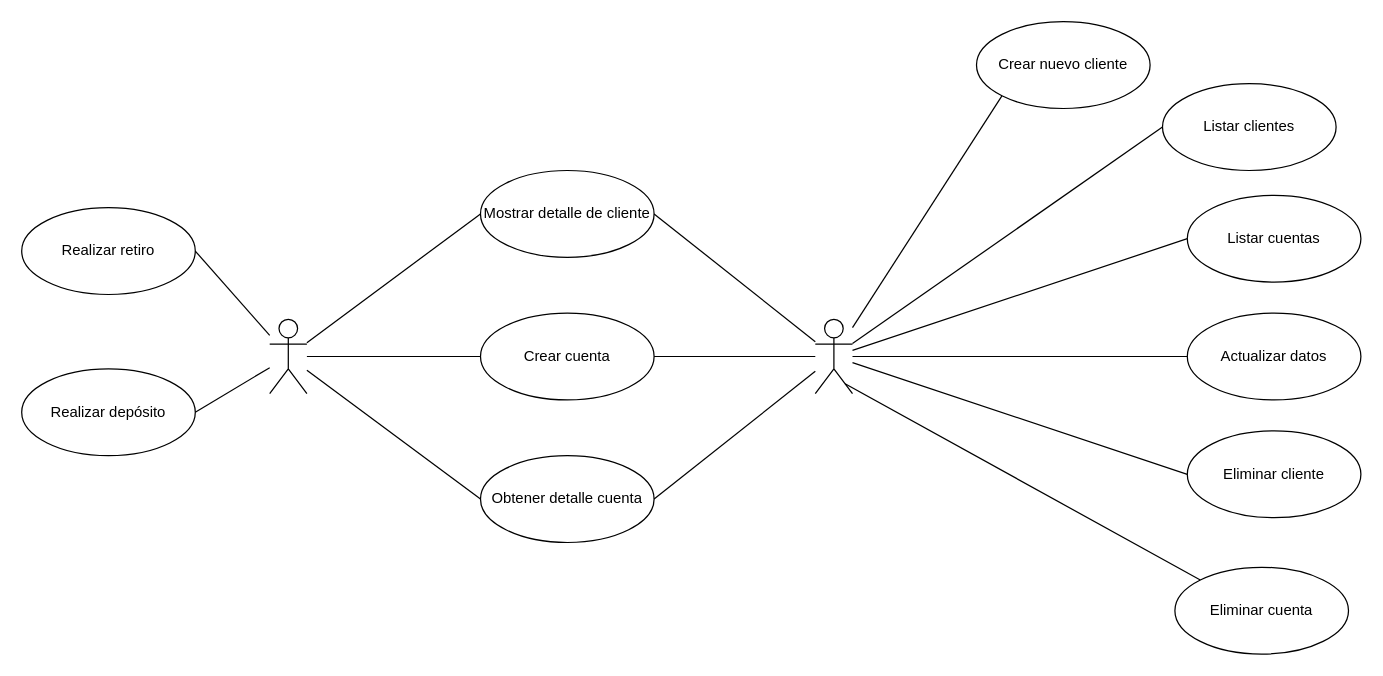
Image size: 1383x676. Some labels were removed from this diagram. The box of each missing label's shape, as (x1, y1, x2, y2) in pixels:
Cliente: (268, 318, 307, 394)
Empleado banco: (814, 318, 852, 394)
